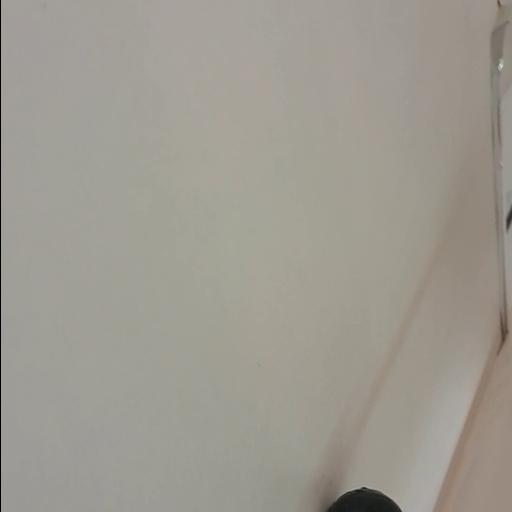dead: (324, 483, 414, 511)
